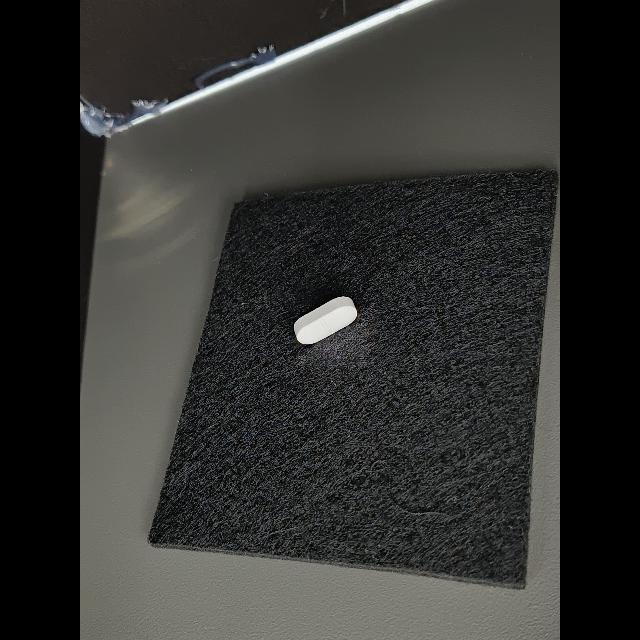Intact Pill: (294, 296, 357, 344)
